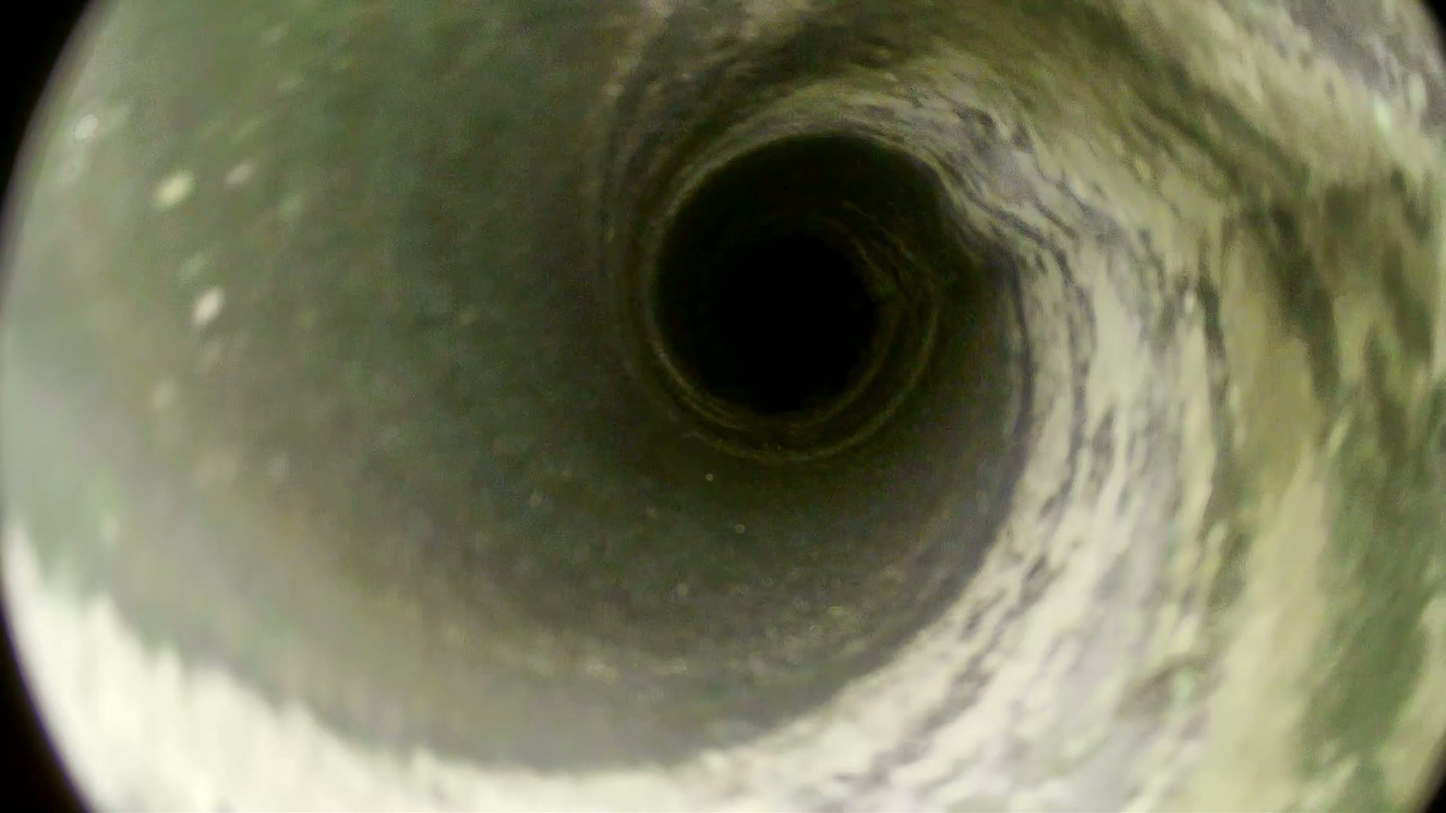hole: (718, 237, 865, 381)
